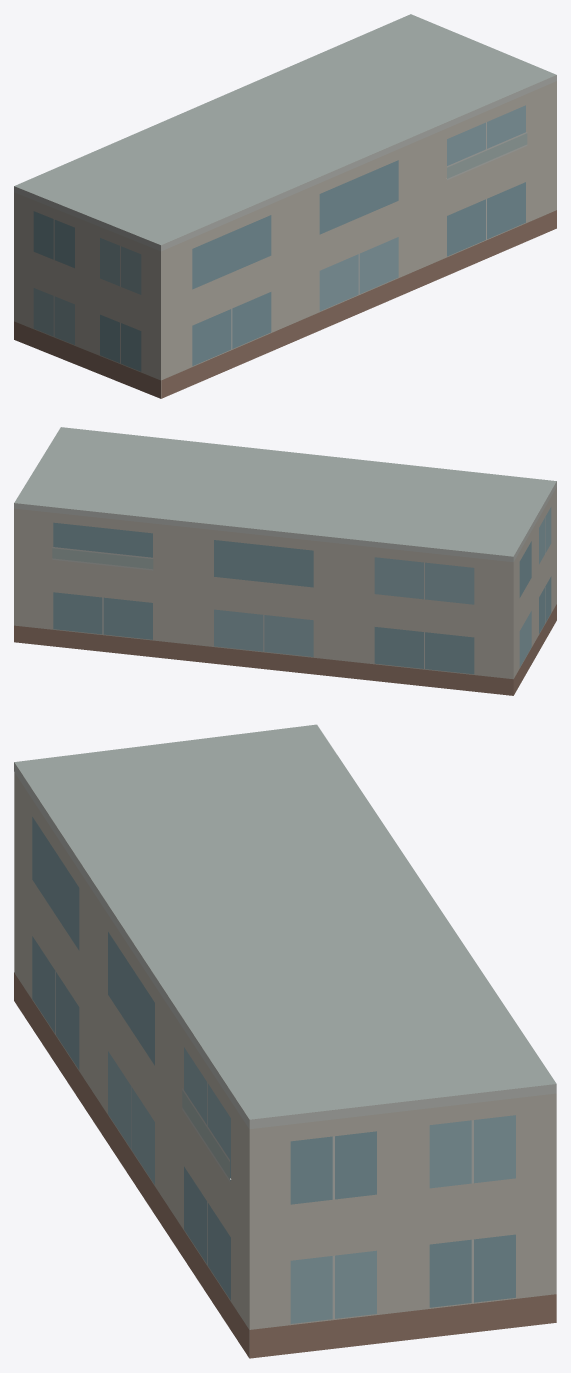
File: survey-upis-32650875.glb
3 renders of one model, top to bottom at view 1: azimuth 30°, elevation 25°; view 2: azimuth 150°, elevation 25°; view 3: azimuth 270°, elevation 25°, orthographic. The views are drawn at different scales.
Visible parts, largest first — view 1: survey-upis-32650875.tmp; view 2: survey-upis-32650875.tmp; view 3: survey-upis-32650875.tmp.
Part boxes in pixels (box(x1,y1,x2,y2)): survey-upis-32650875.tmp: box(14, 14, 556, 398); survey-upis-32650875.tmp: box(14, 427, 556, 695); survey-upis-32650875.tmp: box(14, 724, 556, 1358).
Bounding box in the file's own units: 21.67 × 6.1 × 12.58.
